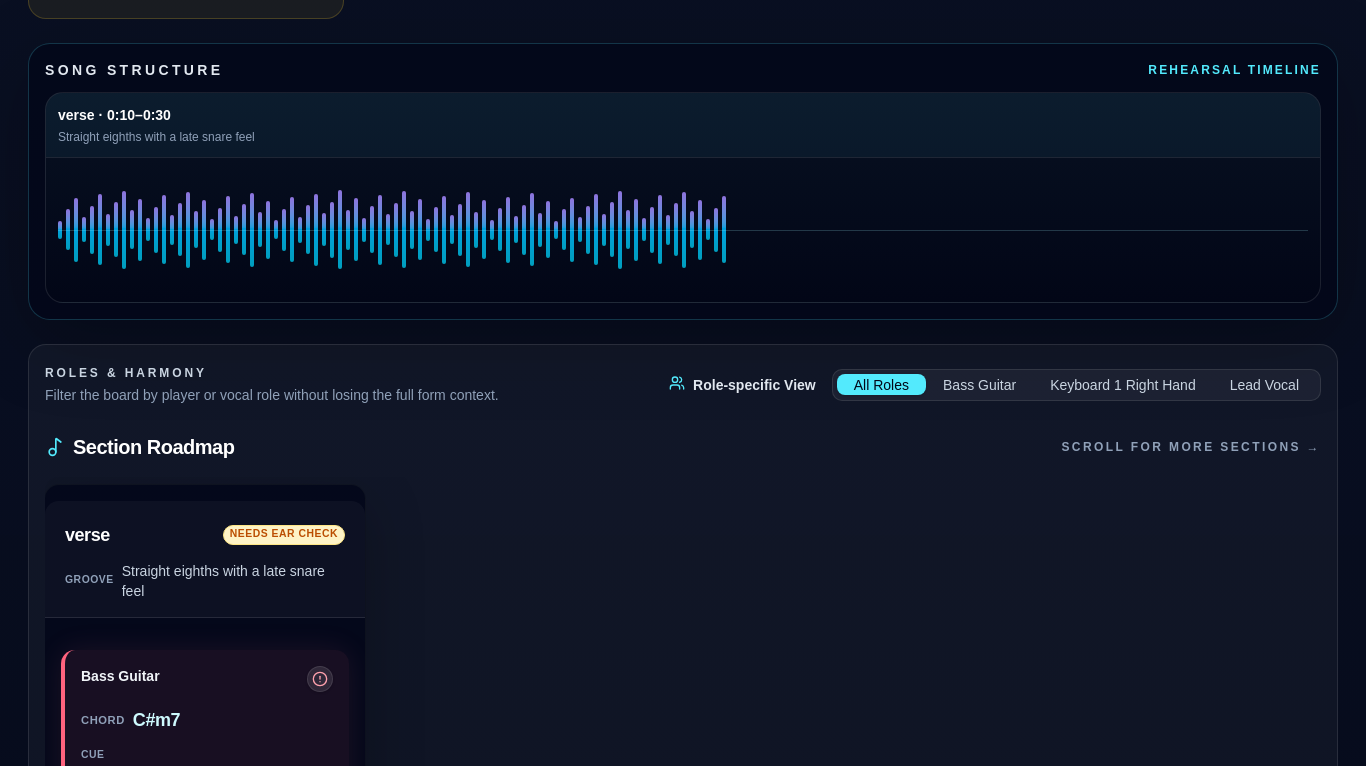
Test case: Workspace › renders bass transcription in the dark rehearsal cockpit system
This screenshot has width=1366, height=766.
(page scrolled)
Click the tab "Bass Guitar" at (980, 385), box [926,374,1033,395]
(page scrolled)
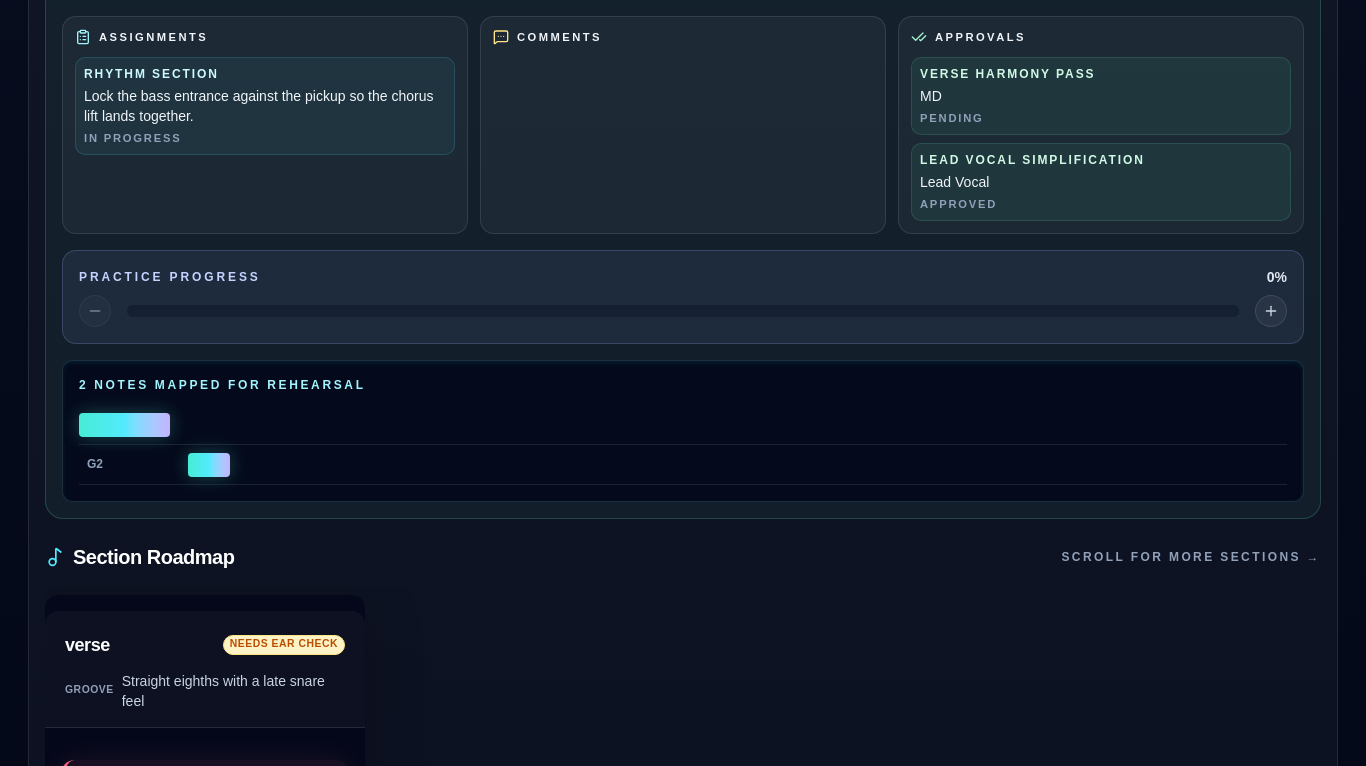
Now the text "E2" is shown, box [79,405,1287,445]
Now the text "G2" is shown, box [79,445,1287,485]
Now the text "2 notes mapped for rehearsal" is shown, box [79,378,366,392]
